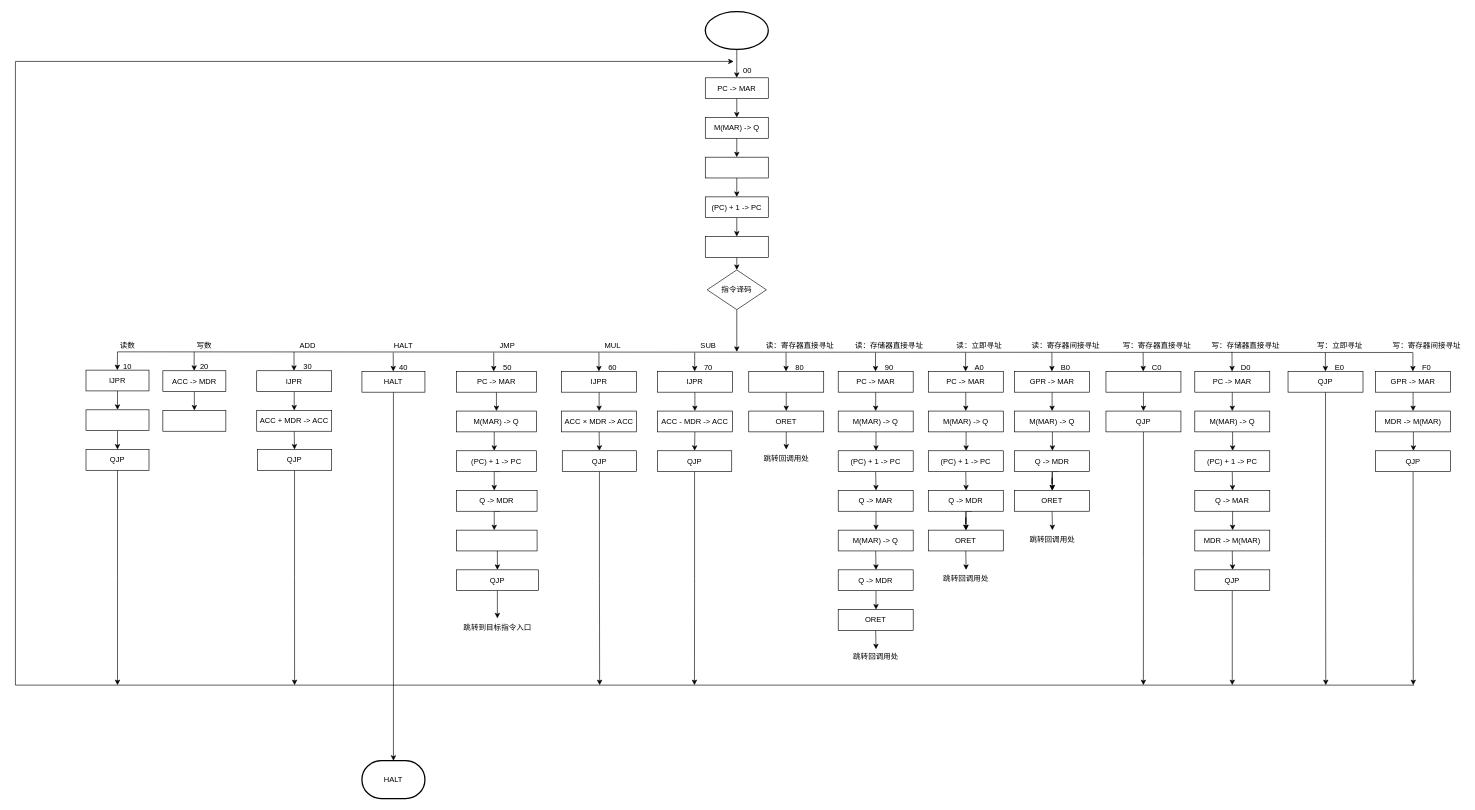
This 1475x810 diagram has some shape labels left out. The shapes that lost their labels are listed below. From the top down, each one's box as (x1, y1, x2, y2) in pixels, then its label:
(704, 11, 769, 50): START
(705, 157, 768, 178): Q -> IR
(705, 236, 768, 257): OP(IR) -> uIR
(748, 371, 824, 392): GPR -> MDR
(1105, 371, 1181, 392): MDR -> GPR
(85, 409, 149, 431): MDR -> ACC
(162, 410, 226, 431): IJPW
(456, 530, 537, 551): C·MDR + /C·PC -> PC
